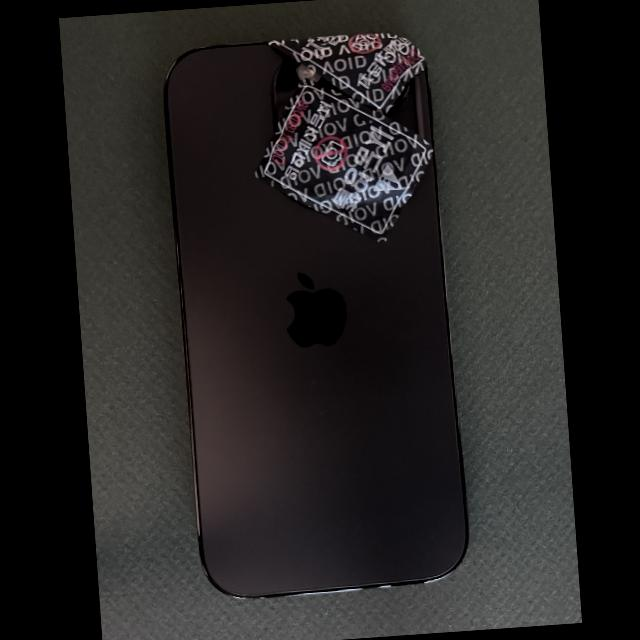phone: (165, 31, 466, 596)
sticker: (253, 78, 434, 244), (262, 31, 428, 116)
